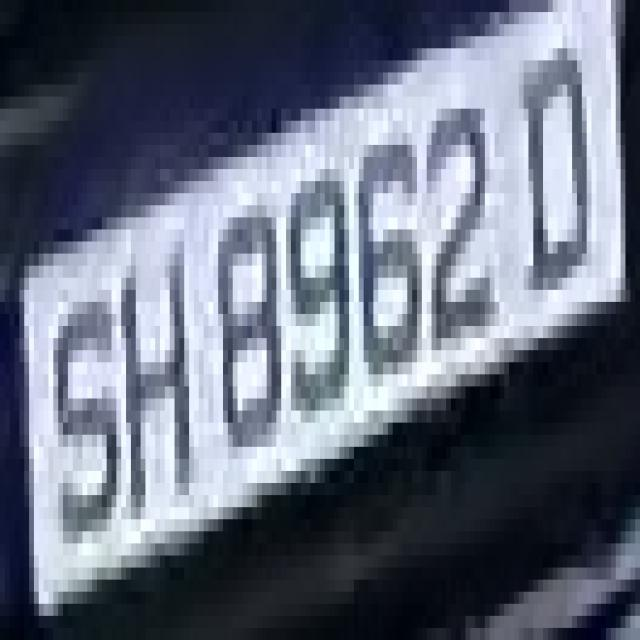2: (412, 73, 500, 374)
6: (344, 96, 422, 422)
8: (204, 193, 286, 483)
9: (271, 133, 354, 447)
D: (514, 12, 596, 314)
H: (112, 242, 204, 544)
S: (44, 278, 126, 568)
